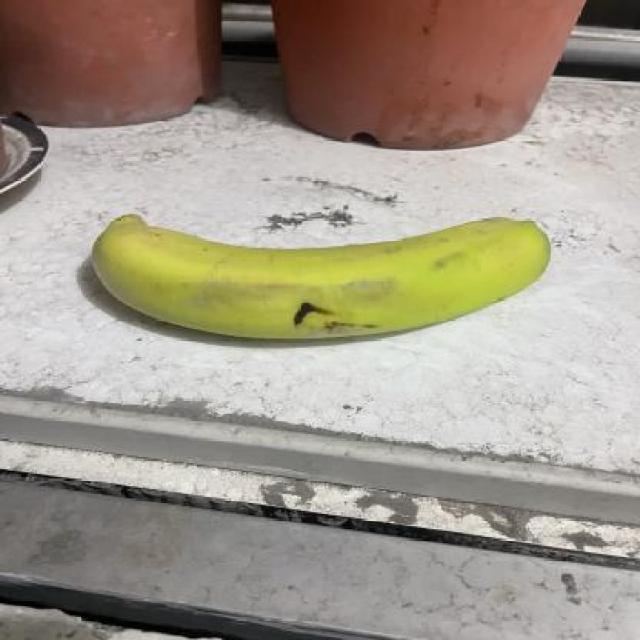Banana: (70, 200, 566, 352)
